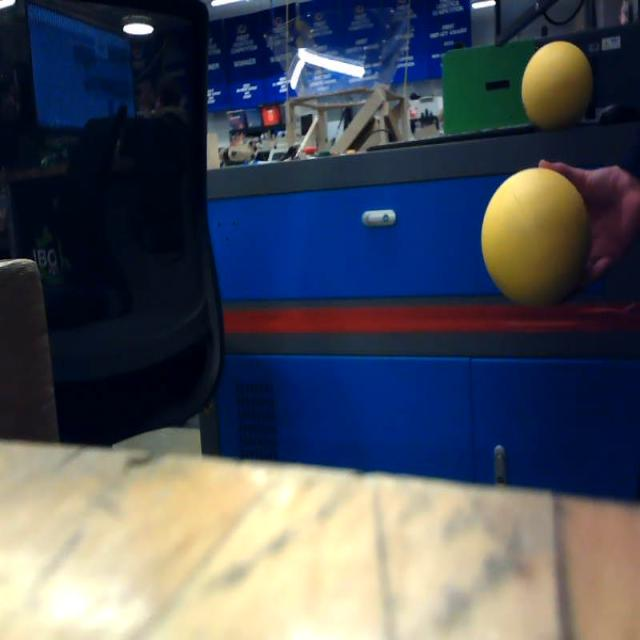Fuel: (481, 168, 592, 312), (522, 41, 592, 132)
